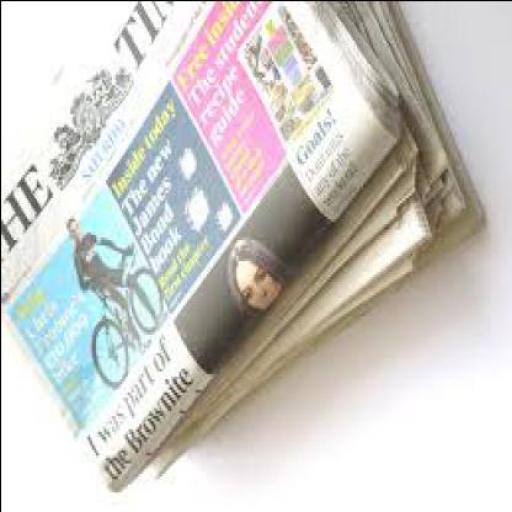paper: (1, 1, 481, 481), (1, 1, 398, 489), (151, 128, 478, 464)
